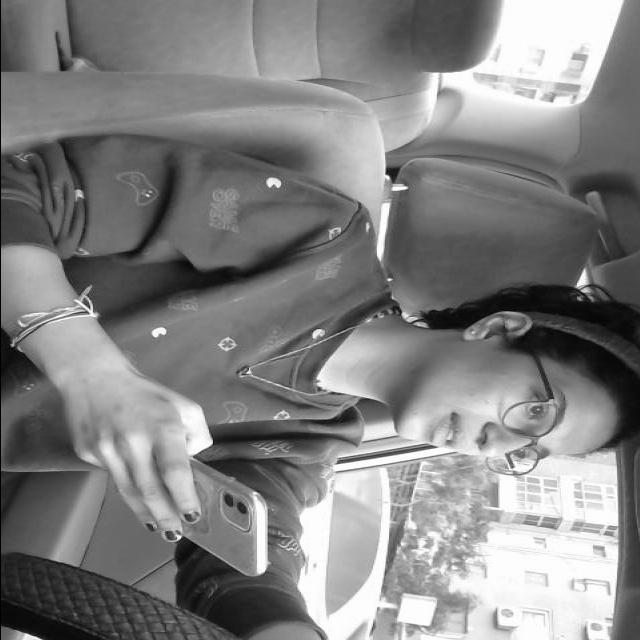mobile use: (136, 453, 272, 578)
